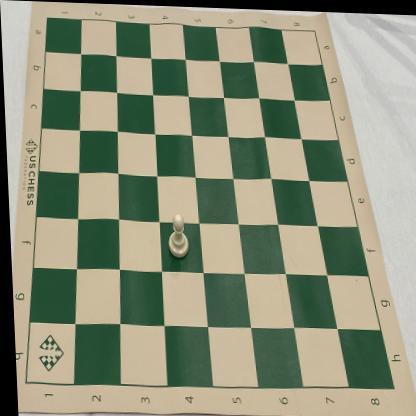white-pawn: (165, 210, 187, 258)
